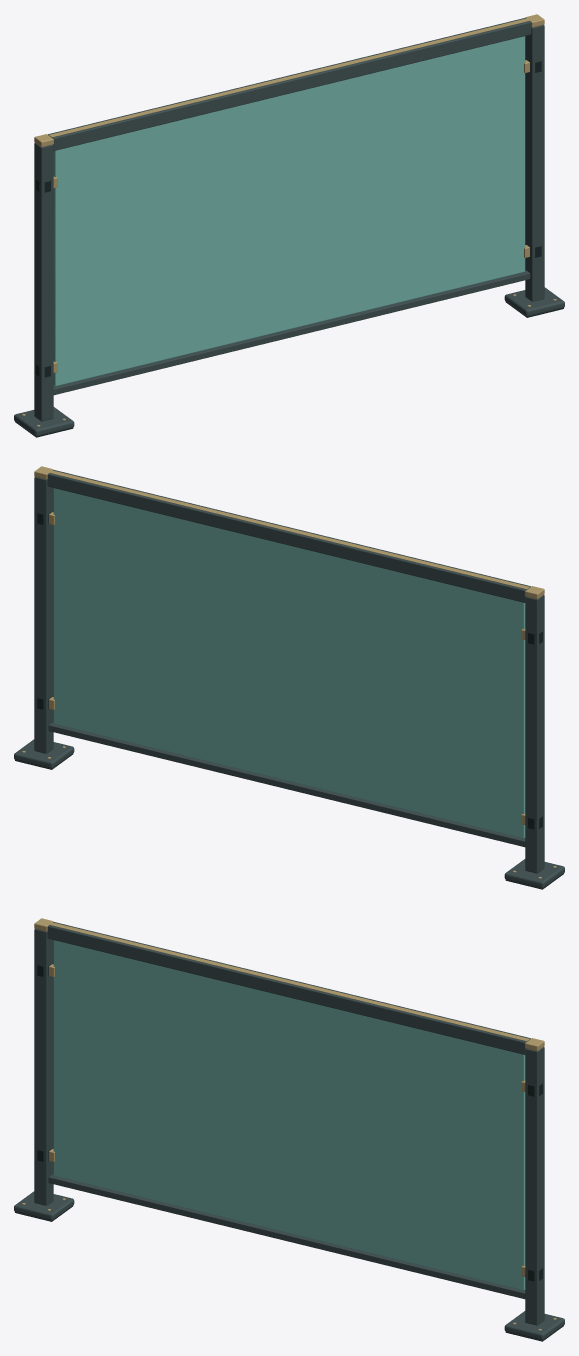
Rendered from mall-glass-railing-2m.glb.
3 renders of one model, top to bottom at view 1: azimuth 30°, elevation 25°; view 2: azimuth 150°, elevation 25°; view 3: azimuth 330°, elevation 25°, orthographic.
Parts seen in each view (by area): view 1: MODULE_Infill, MODULE_Post_Left, MODULE_Post_Right; view 2: MODULE_Infill, MODULE_Post_Left, MODULE_Post_Right; view 3: MODULE_Infill, MODULE_Post_Right, MODULE_Post_Left.
Part boxes in pixels (x1,y1,x2,y2): MODULE_Infill: (48, 18, 531, 395); MODULE_Post_Left: (14, 134, 74, 437); MODULE_Post_Right: (504, 14, 564, 317); MODULE_Infill: (47, 470, 530, 847); MODULE_Post_Left: (504, 586, 564, 889); MODULE_Post_Right: (14, 466, 74, 769); MODULE_Infill: (47, 922, 530, 1299); MODULE_Post_Right: (504, 1038, 564, 1341); MODULE_Post_Left: (14, 918, 74, 1221).
Bounding box in the file's own units: 2.16 × 1.12 × 0.16.
